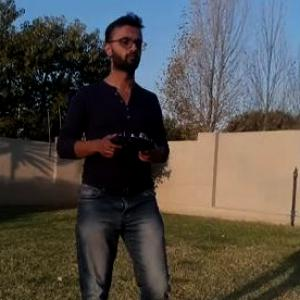follow: (56, 11, 183, 299)
